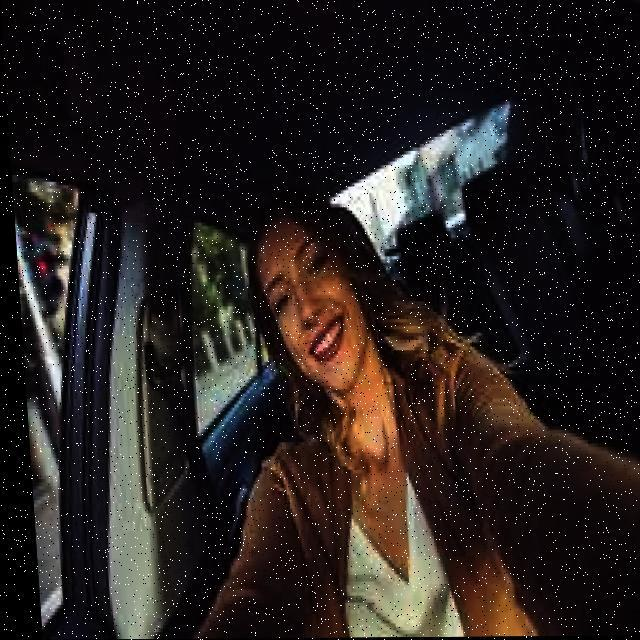noSeatbelt: (218, 332, 546, 638)
